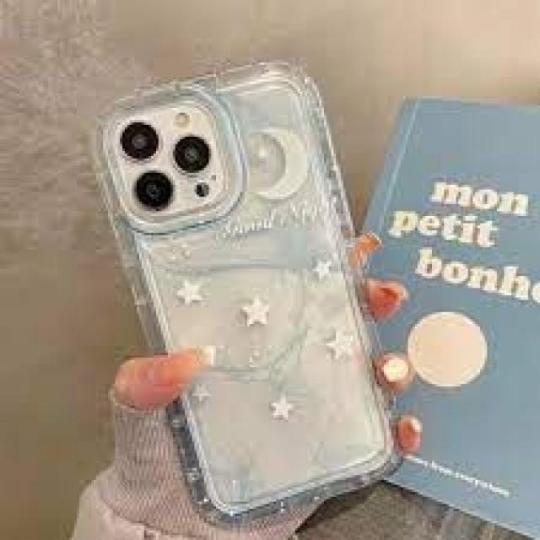phone: (97, 61, 421, 507)
